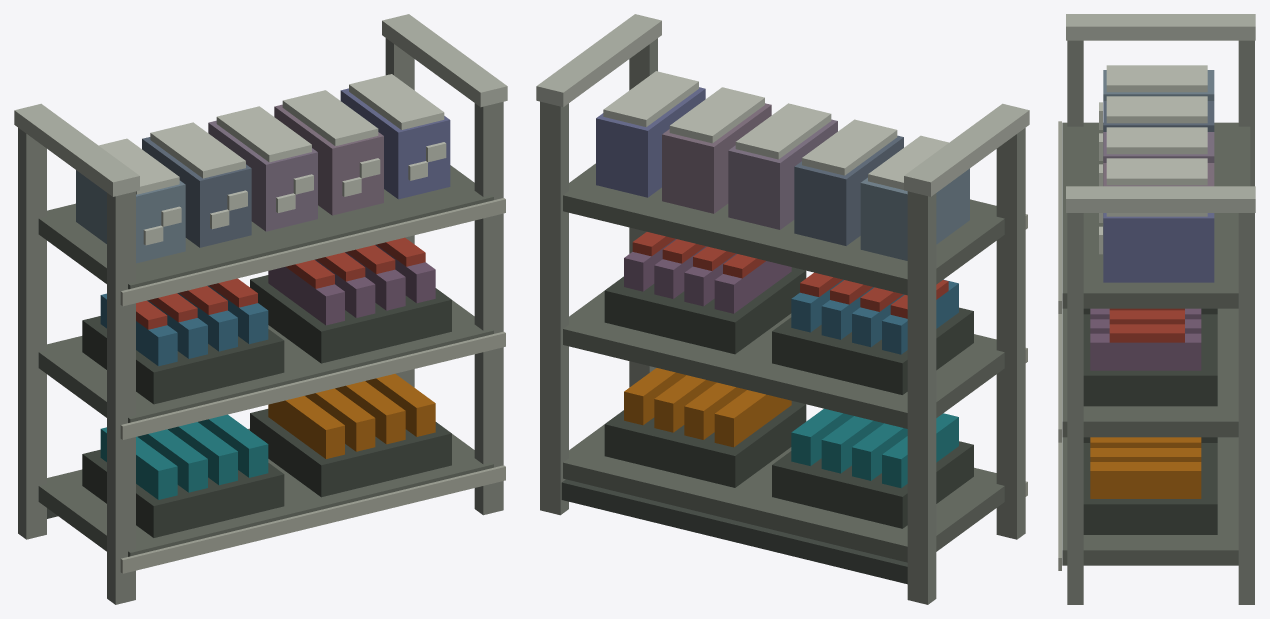
The model's file is CMU3DWeymartShelf4.glb.
The picture shows the model from 3 angles, left to right: view 1: azimuth 30°, elevation 25°; view 2: azimuth 150°, elevation 25°; view 3: azimuth 270°, elevation 25°; orthographic projection. The views are drawn at different scales.
Parts seen in each view (by area): view 1: shelf upright (×4), shelf deck (×3), produce tray (×4), row of packaged stock (×16), product carton (×5), shelf pale front lip (×3), folded packet top (×5), top end cap (×2), stock colored cap (×8); view 2: shelf deck (×3), shelf upright (×4), produce tray (×4), product carton (×5), row of packaged stock (×16), folded packet top (×5), top end cap (×2), rear base stretcher, stock colored cap (×7); view 3: shelf deck (×3), shelf upright (×4), produce tray (×2), folded packet top (×5), row of packaged stock (×6), product carton (×5), top end cap (×2), stock colored cap (×2), shelf pale front lip (×3).
Part boxes in pixels (bbox=[...]): shelf upright (×4): bbox=[18, 38, 503, 604]; shelf deck (×3): bbox=[38, 165, 493, 556]; produce tray (×4): bbox=[82, 275, 451, 537]; row of packaged stock (×16): bbox=[100, 244, 435, 499]; product carton (×5): bbox=[76, 88, 450, 263]; shelf pale front lip (×3): bbox=[120, 198, 505, 573]; folded packet top (×5): bbox=[99, 74, 444, 194]; top end cap (×2): bbox=[14, 14, 507, 196]; stock colored cap (×8): bbox=[136, 237, 425, 329]; shelf deck (×3): bbox=[563, 163, 1004, 562]; shelf upright (×4): bbox=[540, 38, 1025, 604]; produce tray (×4): bbox=[604, 267, 973, 528]; product carton (×5): bbox=[596, 87, 969, 260]; row of packaged stock (×16): bbox=[624, 239, 958, 488]; folded packet top (×5): bbox=[603, 71, 948, 189]; top end cap (×2): bbox=[536, 14, 1029, 196]; rear base stretcher: bbox=[561, 479, 907, 584]; stock colored cap (×7): bbox=[632, 232, 903, 311]; shelf deck (×3): bbox=[1062, 122, 1250, 565]; shelf upright (×4): bbox=[1067, 40, 1254, 604]; produce tray (×2): bbox=[1083, 314, 1217, 534]; folded packet top (×5): bbox=[1106, 65, 1207, 216]; row of packaged stock (×6): bbox=[1090, 308, 1201, 498]; product carton (×5): bbox=[1103, 70, 1214, 282]; top end cap (×2): bbox=[1066, 14, 1255, 212]; stock colored cap (×2): bbox=[1109, 310, 1184, 342]; shelf pale front lip (×3): bbox=[1058, 121, 1061, 570].
Size of the model in its own units: 0.966 by 0.9914 by 0.4356.
